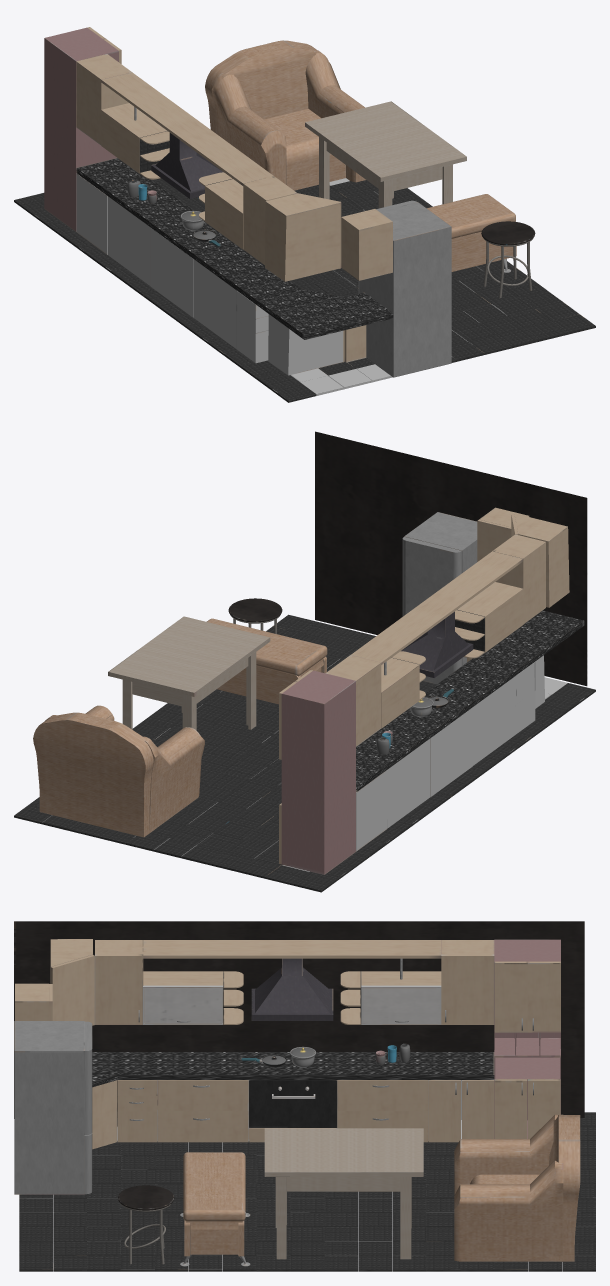
The model's file is kitchen.glb.
3 renders of one model, top to bottom at view 1: azimuth 30°, elevation 25°; view 2: azimuth 150°, elevation 25°; view 3: azimuth 270°, elevation 25°, orthographic. The views are drawn at different scales.
Visible parts, largest first — view 1: pCube22, pCube15, Polka, pCube246, pCube14, pCube255, VerxDoska, pCube254, Polka_6, pCube251, pCube37, Polka_2 (+25 smaller); view 2: pCube38, Polka, pCube255, pCube22, pCube246, VerxDoska, pCube254, pCube17, pCube19, Polka_5, pCube30, Polka_4 (+15 smaller); view 3: pCube38, pCube15, pCube22, pCube253, pCube246, Door_2 (×2), VerxDoska, pCube20 (×2), pCube8 (×2), Polka, pCube21 (×2), pCube250 (+72 smaller).
Boxes of the visible parts, x1,y1,x2,y2 form: pCube22: (76,158,393,339); pCube15: (360,202,451,377); Polka: (44,27,118,231); pCube246: (305,101,466,181); pCube14: (265,194,340,281); pCube255: (205,40,317,133); VerxDoska: (101,72,273,185); pCube254: (211,73,286,184); Polka_6: (342,210,392,280); pCube251: (264,108,345,190); pCube37: (268,314,343,375); Polka_2: (76,54,129,145); pCube38: (315,431,587,686); Polka: (281,670,355,874); pCube255: (33,712,156,837); pCube22: (356,610,584,792); pCube246: (108,616,270,696); VerxDoska: (350,551,522,664); pCube254: (143,727,204,829); pCube17: (402,537,461,616); pCube19: (387,738,430,828); Polka_5: (495,535,545,623); pCube30: (473,676,515,765); Polka_4: (457,582,523,652); pCube38: (14,921,584,1118); pCube15: (14,1021,84,1194); pCube22: (92,1052,494,1087); pCube253: (454,1160,563,1261); pCube246: (264,1128,423,1176); Door_2 (×2): (95,954,494,1024); VerxDoska: (143,940,441,958); pCube20 (×2): (157,1080,428,1110); pCube8 (×2): (144,988,440,1023); Polka: (494,939,560,1138); pCube21 (×2): (157,1111,428,1142); pCube250: (183,1152,245,1221).
Bounding box in the file's own units: 0.1455 × 0.0855 × 0.2271.
Materials: 1 (1 with a texture image).
